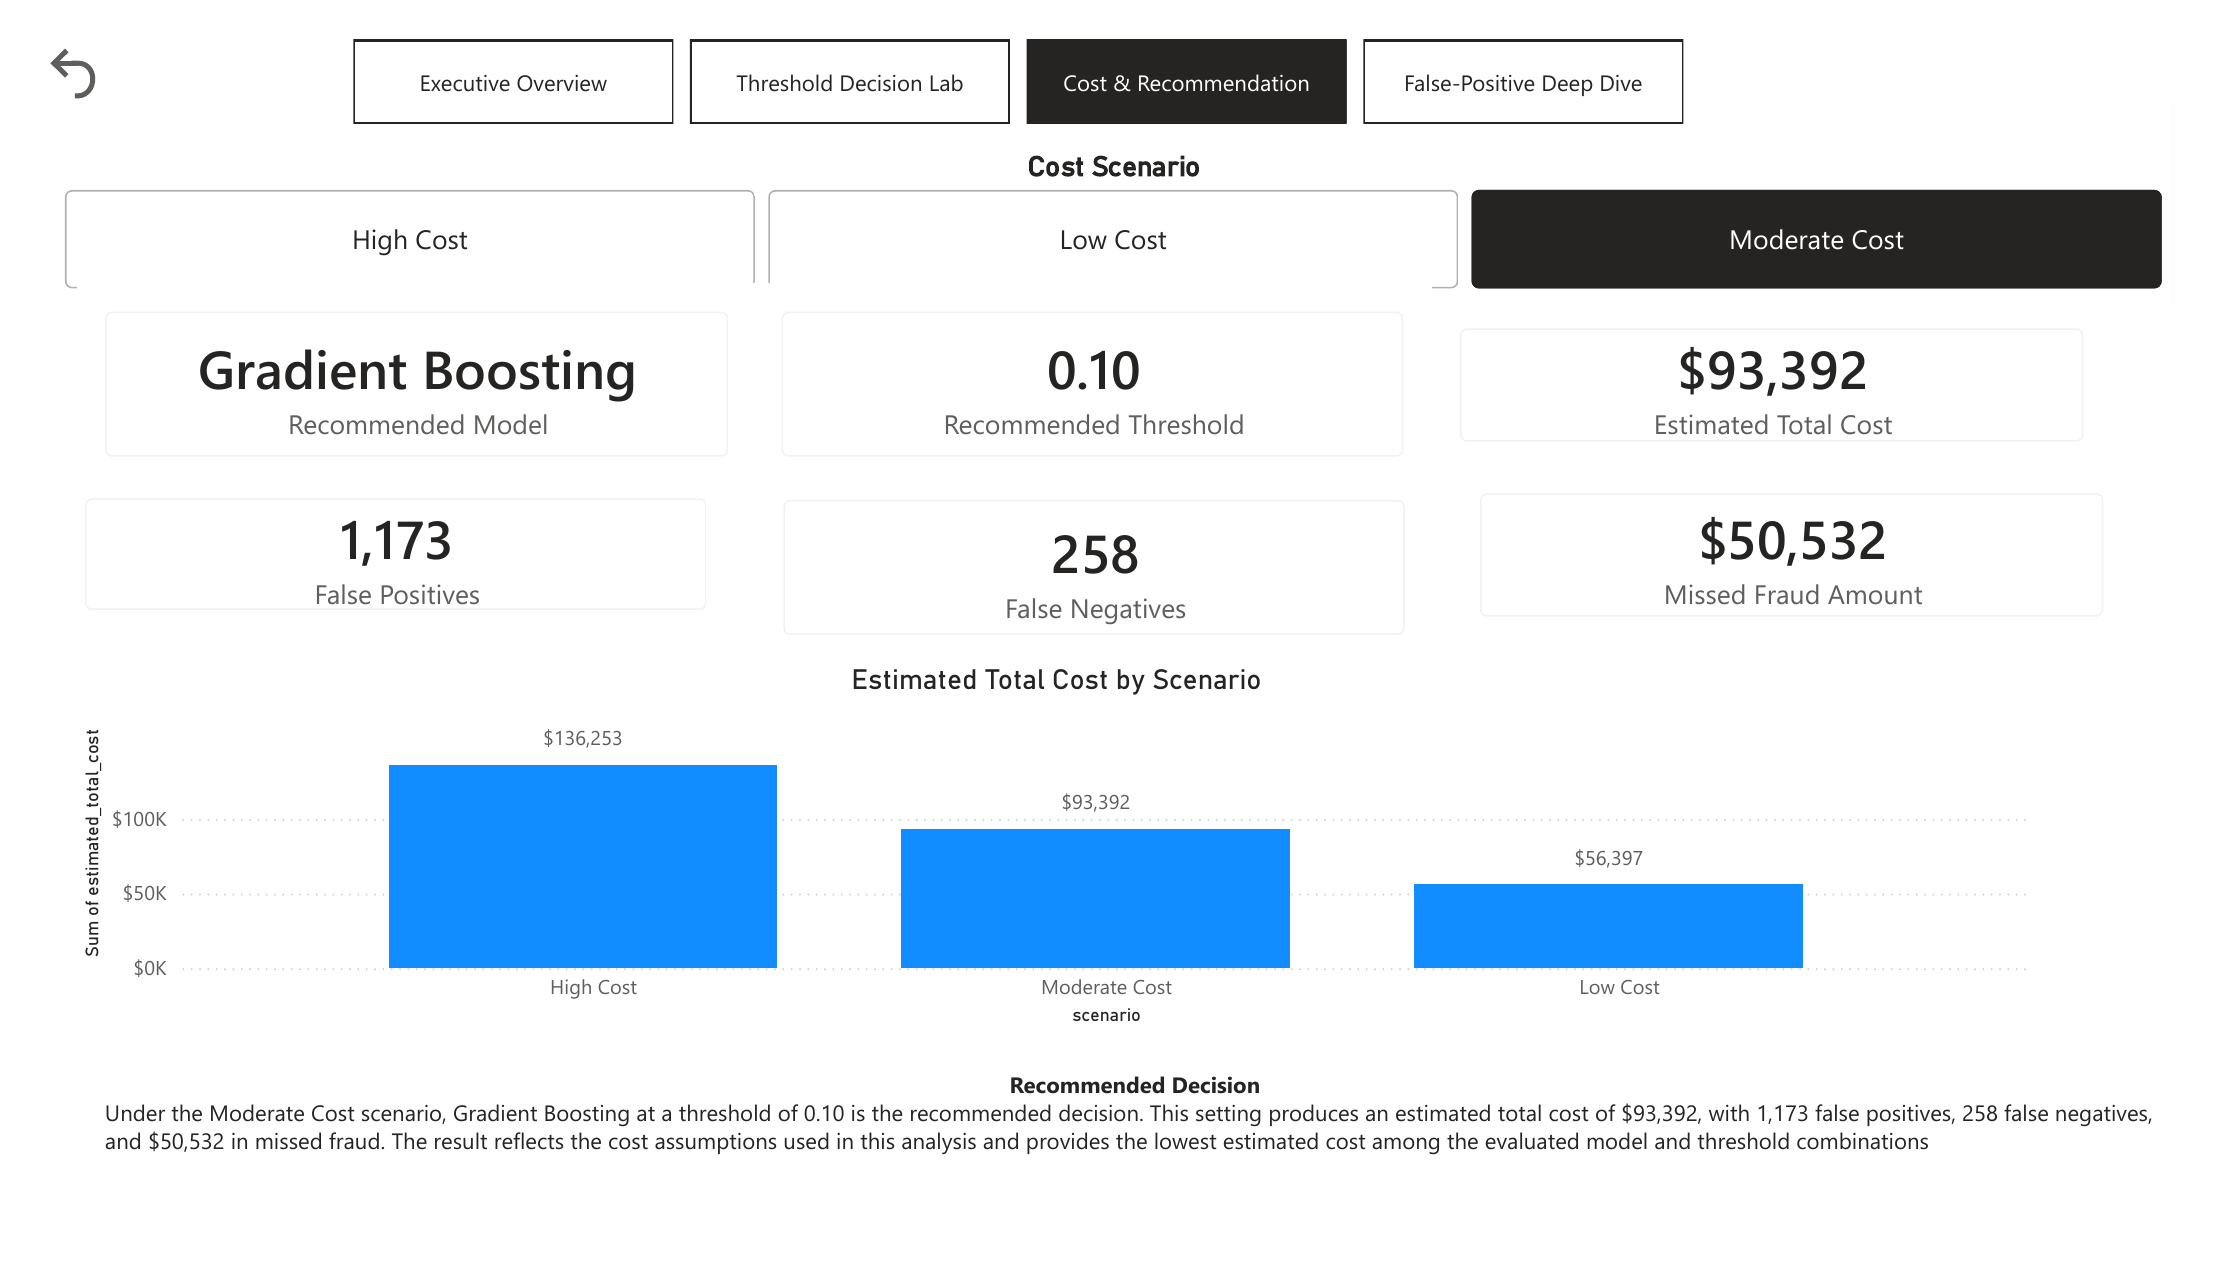

Layout of this report page (visuals, bound fields, positions):
{"tool":"powerbi","page":{"name":"Cost & Recommendation","canvas":[1280,720],"ordinal":2},"visuals":[{"type":"advancedSlicerVisual","title":"Cost Scenario","fields":{"Values":["best_model_cost_comparison.scenario"]},"box":[10.1,65.7,1269.7,87.9],"z":0},{"type":"cardVisual","fields":{"Data":["Min(best_model_cost_comparison.model)"]},"box":[22.2,146.5,408.1,120.2],"z":1000},{"type":"cardVisual","fields":{"Data":["Sum(best_model_cost_comparison.threshold)"]},"box":[428.3,146.5,407.1,120.2],"z":2000},{"type":"cardVisual","fields":{"Data":["Sum(best_model_cost_comparison.estimated_total_cost)"]},"box":[835.4,155.6,408.1,102],"z":3000},{"type":"cardVisual","fields":{"Data":["Sum(best_model_cost_comparison.false_positives)"]},"box":[10.1,257.6,407.1,101],"z":4000},{"type":"cardVisual","fields":{"Data":["Sum(best_model_cost_comparison.false_negatives)"]},"box":[429,258.8,406.6,115.5],"z":5000},{"type":"cardVisual","fields":{"Data":["Sum(best_model_cost_comparison.missed_fraud_amount)"]},"box":[847.5,254.5,407.1,108.1],"z":6000},{"type":"lineClusteredColumnComboChart","title":"Estimated Total Cost by Scenario","fields":{"Category":["best_model_cost_comparison.scenario"],"Y":["Sum(best_model_cost_comparison.estimated_total_cost)"]},"box":[21.5,374.3,1177.6,222.1],"z":7000},{"type":"textbox","box":[34.4,612.7,1245.6,107.2],"z":8000},{"type":"pageNavigator","box":[187.7,0,800.5,49.6],"z":8001},{"type":"actionButton","box":[0,0,100,40],"z":8002}]}

Visuals, with their boxes in screenshot pixels (x1, y1, x2, y2), scaled from the page's 1280x720 canvas onto the 2214x1280 screenshot:
"Cost Scenario" advancedSlicerVisual: <region>17, 117, 2213, 273</region>
cardVisual - Min(best_model_cost_comparison.model): <region>38, 260, 744, 474</region>
cardVisual - Sum(best_model_cost_comparison.threshold): <region>741, 260, 1445, 474</region>
cardVisual - Sum(best_model_cost_comparison.estimated_total_cost): <region>1445, 277, 2151, 458</region>
cardVisual - Sum(best_model_cost_comparison.false_positives): <region>17, 458, 722, 638</region>
cardVisual - Sum(best_model_cost_comparison.false_negatives): <region>742, 460, 1445, 665</region>
cardVisual - Sum(best_model_cost_comparison.missed_fraud_amount): <region>1466, 452, 2170, 645</region>
"Estimated Total Cost by Scenario" lineClusteredColumnComboChart: <region>37, 665, 2074, 1060</region>
textbox: <region>60, 1089, 2213, 1279</region>
pageNavigator: <region>325, 0, 1709, 88</region>
actionButton: <region>0, 0, 173, 71</region>
